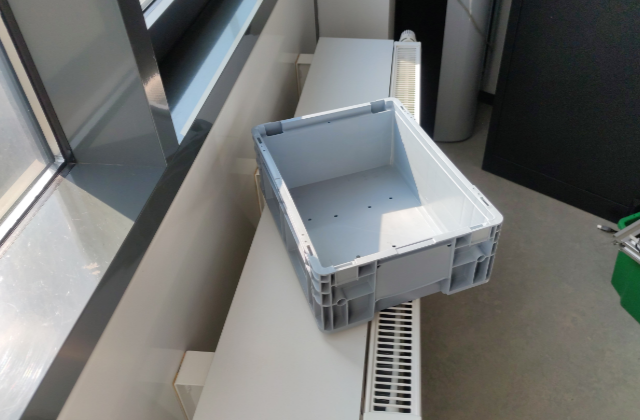Box: (250, 96, 505, 335)
